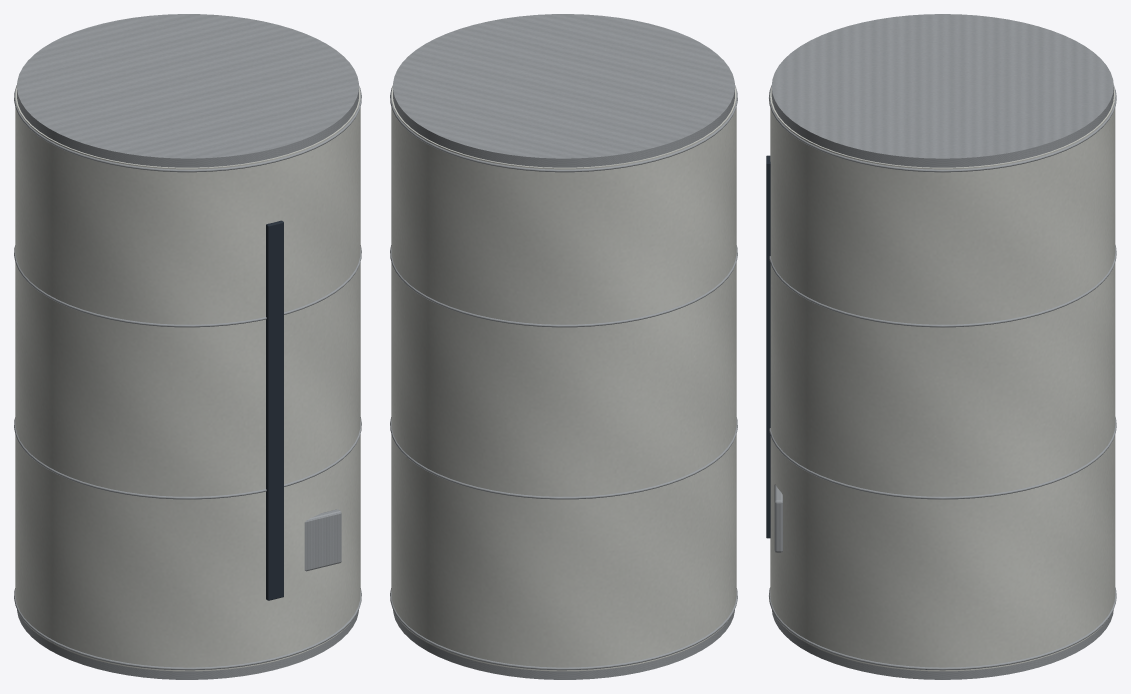
Rendered from second_stage_body.glb.
3 renders of one model, left to right at view 1: azimuth 30°, elevation 25°; view 2: azimuth 150°, elevation 25°; view 3: azimuth 270°, elevation 25°, orthographic.
Visible parts, largest first — view 1: Stage_PressureShell.001, Top_EndCap.001, Cable_Raceway.001, Base_EndCap.001, Access_Panel.001, Stage_WeldSeam.007, Stage_WeldSeam.004, Stage_WeldSeam.006, Stage_WeldSeam.005; view 2: Stage_PressureShell.001, Top_EndCap.001, Base_EndCap.001, Stage_WeldSeam.007, Stage_WeldSeam.006, Stage_WeldSeam.005, Stage_WeldSeam.004; view 3: Stage_PressureShell.001, Top_EndCap.001, Base_EndCap.001, Cable_Raceway.001, Stage_WeldSeam.007, Stage_WeldSeam.005, Stage_WeldSeam.004, Stage_WeldSeam.006, Access_Panel.001.
Boxes of the visible parts, <box> form: Stage_PressureShell.001: <box>15,86,360,671</box>; Top_EndCap.001: <box>17,14,358,167</box>; Cable_Raceway.001: <box>266,220,283,600</box>; Base_EndCap.001: <box>17,610,358,679</box>; Access_Panel.001: <box>304,509,341,571</box>; Stage_WeldSeam.007: <box>14,85,361,172</box>; Stage_WeldSeam.004: <box>14,588,361,670</box>; Stage_WeldSeam.006: <box>14,245,361,327</box>; Stage_WeldSeam.005: <box>14,417,361,499</box>; Stage_PressureShell.001: <box>391,86,736,671</box>; Top_EndCap.001: <box>393,14,734,167</box>; Base_EndCap.001: <box>393,610,734,679</box>; Stage_WeldSeam.007: <box>390,85,737,172</box>; Stage_WeldSeam.006: <box>390,245,737,327</box>; Stage_WeldSeam.005: <box>390,417,737,499</box>; Stage_WeldSeam.004: <box>390,588,737,670</box>; Stage_PressureShell.001: <box>770,87,1115,671</box>; Top_EndCap.001: <box>771,14,1113,167</box>; Base_EndCap.001: <box>772,610,1113,679</box>; Cable_Raceway.001: <box>766,155,770,538</box>; Stage_WeldSeam.007: <box>769,85,1116,172</box>; Stage_WeldSeam.005: <box>769,417,1116,499</box>; Stage_WeldSeam.004: <box>769,587,1116,670</box>; Stage_WeldSeam.006: <box>769,245,1116,327</box>; Access_Panel.001: <box>774,484,782,552</box>.
Bounding box in the file's own units: 2.42 × 4 × 2.44.
Materials: 3 (2 with a texture image).
